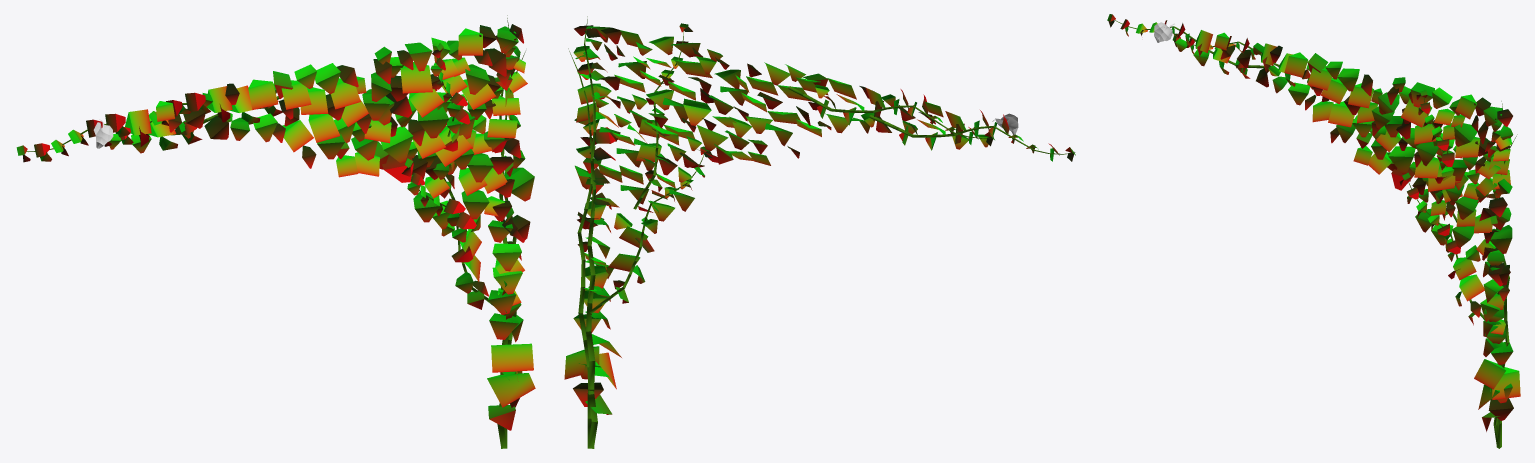
The model's file is Lierre3_LOD1.fbx.
The picture shows the model from 3 angles, left to right: view 1: azimuth 30°, elevation 25°; view 2: azimuth 150°, elevation 25°; view 3: azimuth 330°, elevation 25°; orthographic projection. The views are drawn at different scales.
Visible parts, largest first — view 1: _5335_Var1_LOD2; view 2: _5335_Var1_LOD2; view 3: _5335_Var1_LOD2.
Part boxes in pixels (bbox=[...]): _5335_Var1_LOD2: bbox=[16, 15, 535, 448]; _5335_Var1_LOD2: bbox=[564, 16, 1075, 448]; _5335_Var1_LOD2: bbox=[1107, 14, 1520, 448].
Size of the model in its own units: 112 by 91.32 by 12.36.
